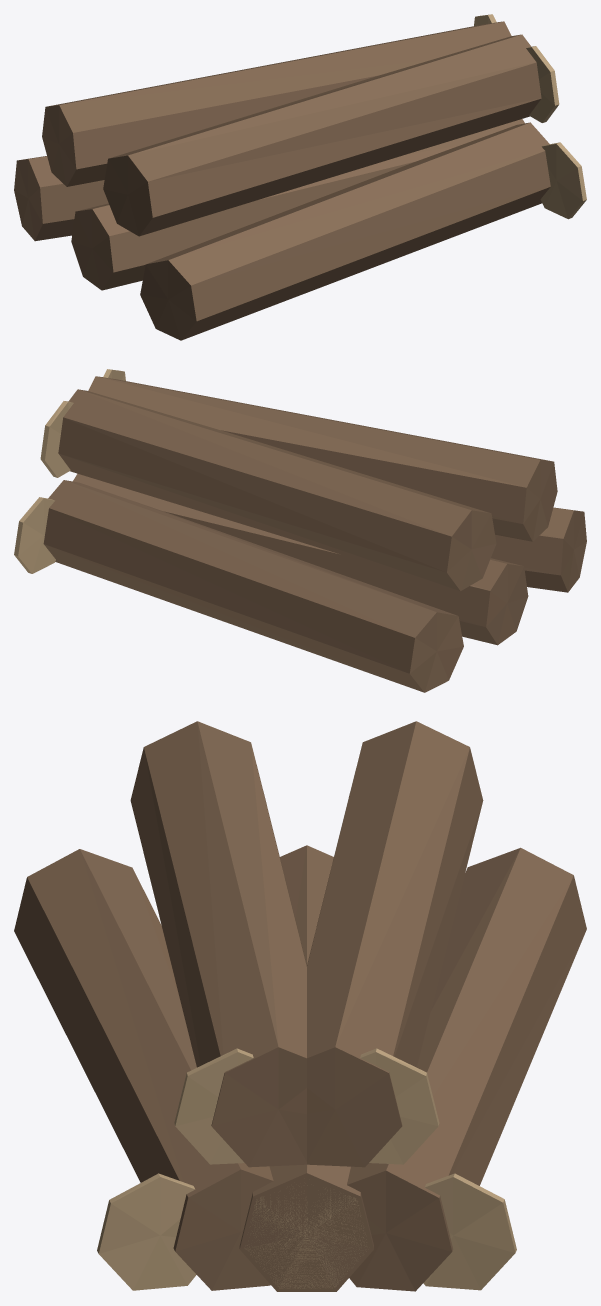
File: logs.glb
The picture shows the model from 3 angles, top to bottom: view 1: azimuth 30°, elevation 25°; view 2: azimuth 150°, elevation 25°; view 3: azimuth 270°, elevation 25°; orthographic projection. The views are drawn at different scales.
Visible parts, largest first — view 1: logs; view 2: logs; view 3: logs.
Boxes of the visible parts, box(x1,y1,x2,y2) form: logs: box(14, 14, 586, 340); logs: box(14, 369, 586, 692); logs: box(14, 721, 586, 1291).
Bounding box in the file's own units: 0.9219 × 0.3121 × 0.6648.
